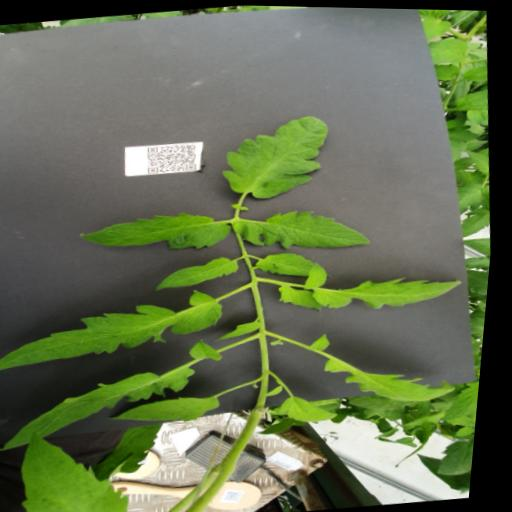Healthy: (0, 282, 234, 379), (0, 363, 209, 455), (21, 419, 146, 512), (216, 112, 340, 203), (326, 343, 466, 410), (80, 205, 240, 261), (234, 200, 379, 258), (316, 267, 470, 317), (112, 390, 229, 430), (156, 253, 246, 294), (284, 391, 348, 425), (260, 248, 322, 280), (443, 377, 486, 419), (282, 281, 331, 315), (443, 436, 482, 475), (216, 319, 270, 343), (462, 204, 496, 236), (193, 336, 230, 362), (306, 259, 334, 290), (314, 330, 338, 350)
